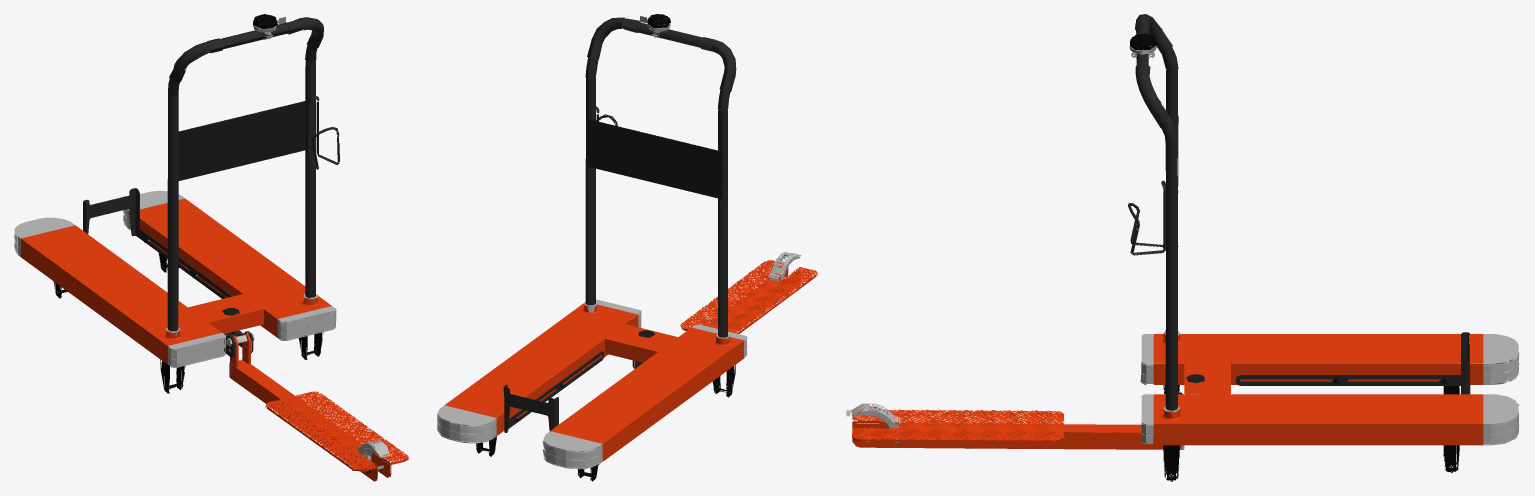
File: SKUTRO ORIGINS.gltf
The picture shows the model from 3 angles, left to right: view 1: azimuth 30°, elevation 25°; view 2: azimuth 150°, elevation 25°; view 3: azimuth 270°, elevation 25°; orthographic projection. The views are drawn at different scales.
Visible parts, largest first — view 1: Skutro_2; view 2: Skutro_2; view 3: Skutro_2.
Part boxes in pixels (box(x1,y1,x2,y2)): Skutro_2: box(14, 14, 408, 481); Skutro_2: box(437, 14, 817, 481); Skutro_2: box(846, 14, 1519, 481).
Bounding box in the file's own units: 0.5568 × 1.18 × 1.74.
